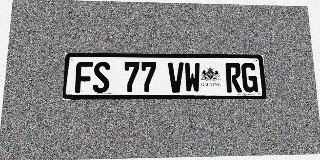7: (123, 62, 139, 93), (140, 62, 156, 93)
F: (75, 62, 93, 93)
G: (241, 63, 258, 92)
R: (225, 63, 242, 92)
S: (92, 62, 110, 93)
V: (168, 62, 184, 93)
W: (184, 62, 201, 93)
